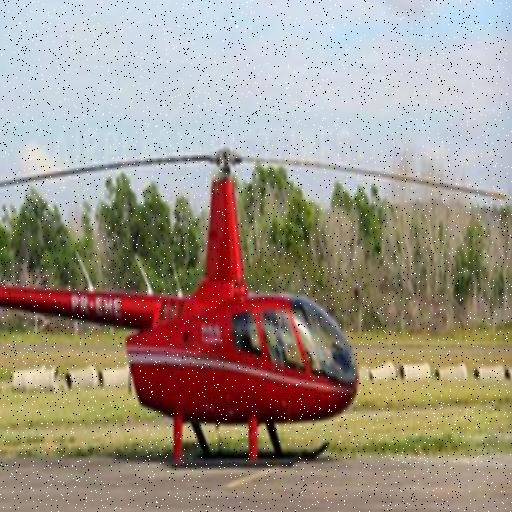helicopter: (1, 42, 418, 495)
